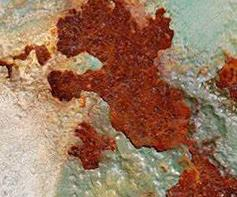rust: (51, 2, 237, 196)
